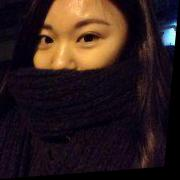WRONG: (32, 16, 120, 104)
